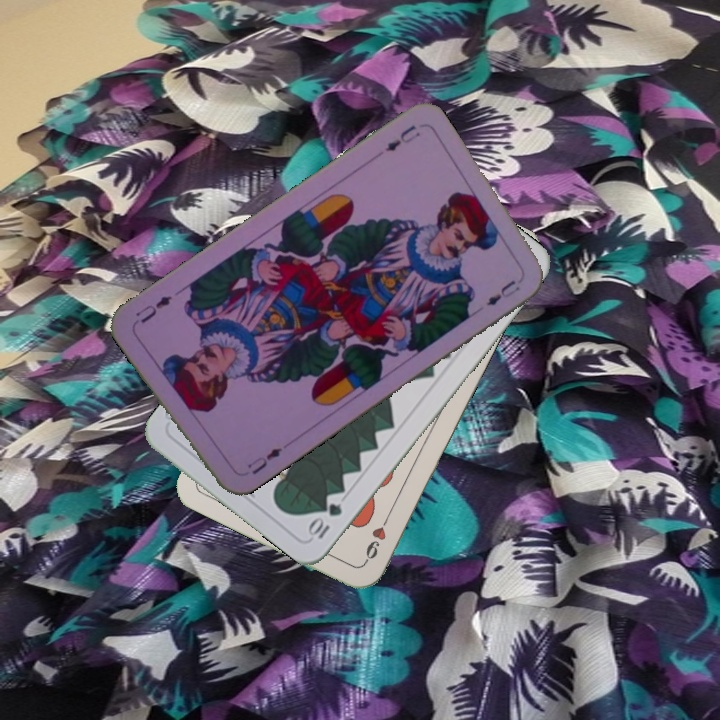EU: (243, 443, 285, 478), (381, 120, 423, 155)
G10: (304, 499, 345, 542)
H9: (359, 511, 392, 566)
